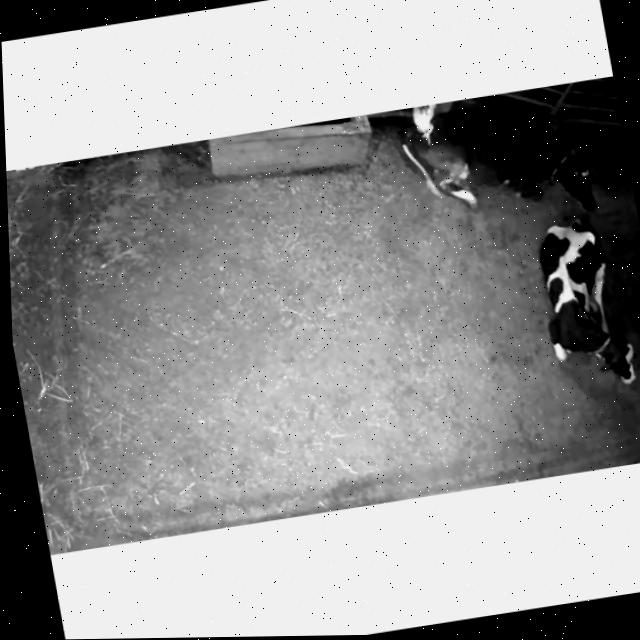lay: (393, 76, 628, 251), (518, 201, 640, 402)
